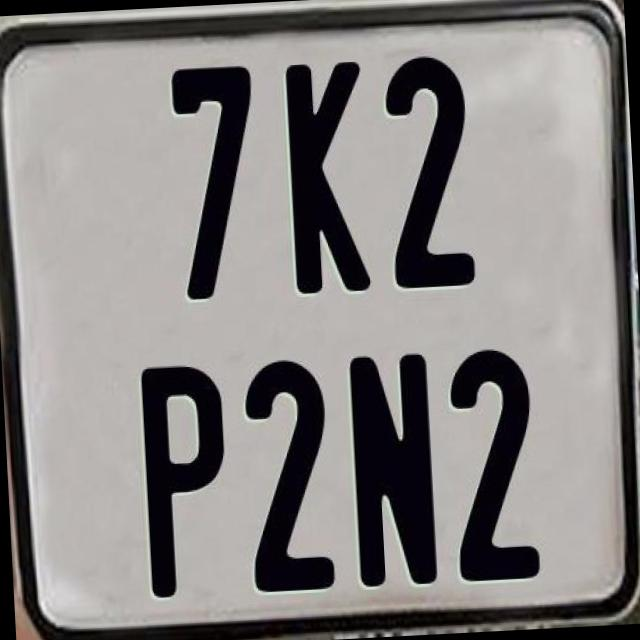2: (446, 346, 541, 590), (380, 51, 474, 292), (243, 354, 338, 588)
7: (166, 61, 262, 304)
K: (285, 59, 375, 294)
N: (344, 350, 434, 592)
P: (140, 360, 234, 595)
